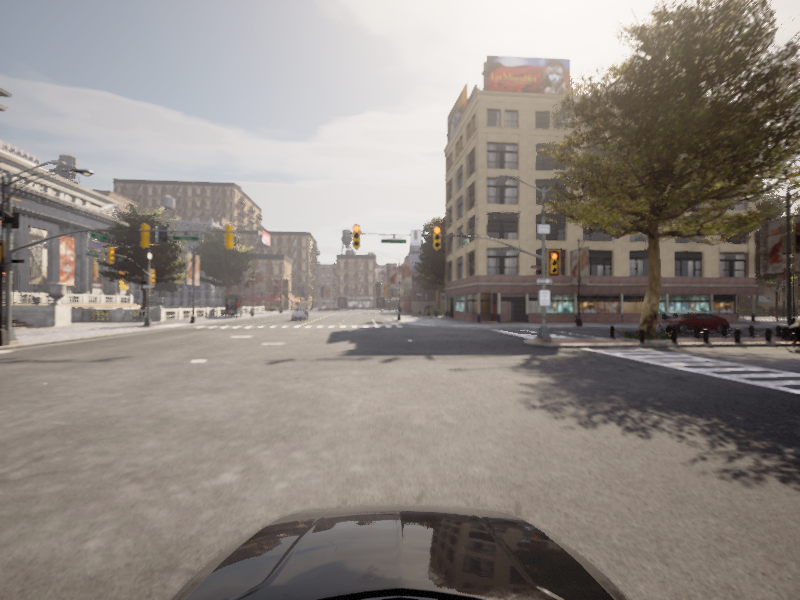vehicle: (653, 312, 734, 333), (778, 314, 799, 353), (289, 307, 310, 321)
